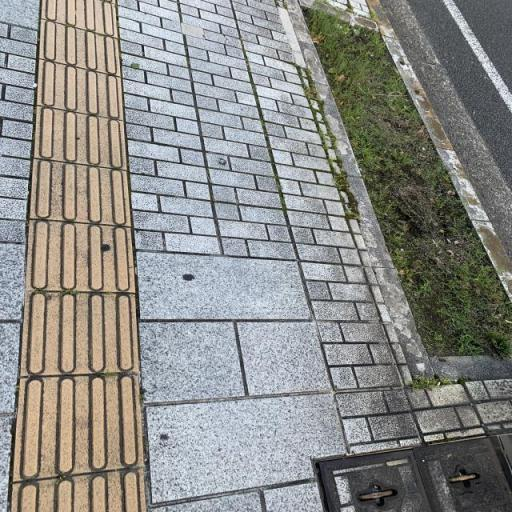line: (9, 372, 148, 483), (18, 289, 141, 378), (24, 217, 141, 294), (26, 157, 133, 228), (34, 105, 128, 170), (36, 58, 125, 119), (37, 18, 123, 77)
